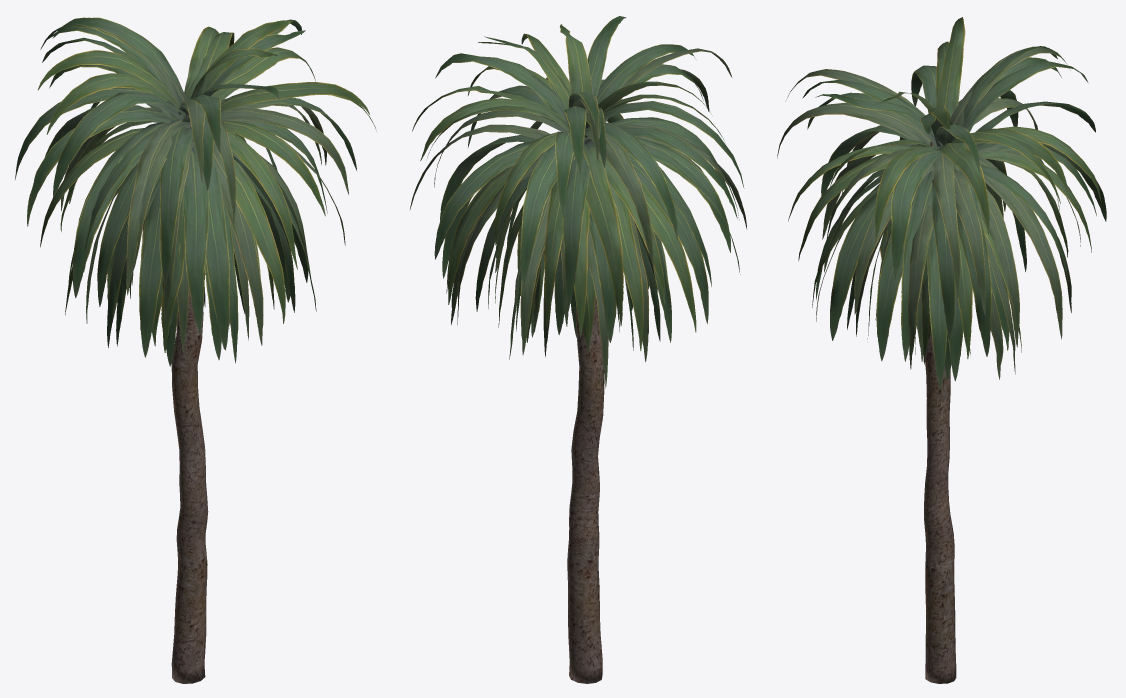
The model's file is palm_cordyline.glb.
The picture shows the model from 3 angles, left to right: view 1: azimuth 30°, elevation 25°; view 2: azimuth 150°, elevation 25°; view 3: azimuth 270°, elevation 25°; orthographic projection. The views are drawn at different scales.
Parts seen in each view (by area): view 1: CD_Cordyline_01.003; view 2: CD_Cordyline_01.003; view 3: CD_Cordyline_01.003.
Part boxes in pixels (<box>): CD_Cordyline_01.003: <box>14,17,376,683</box>; CD_Cordyline_01.003: <box>409,16,747,683</box>; CD_Cordyline_01.003: <box>777,17,1106,683</box>.
Bounding box in the file's own units: 6.12 × 11.88 × 5.9.
Materials: 1 (1 with a texture image).
